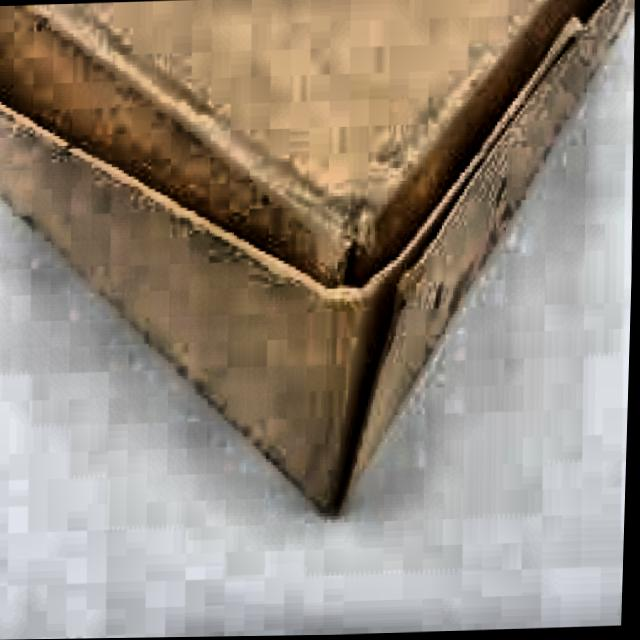Cardbox: (0, 0, 640, 535)
